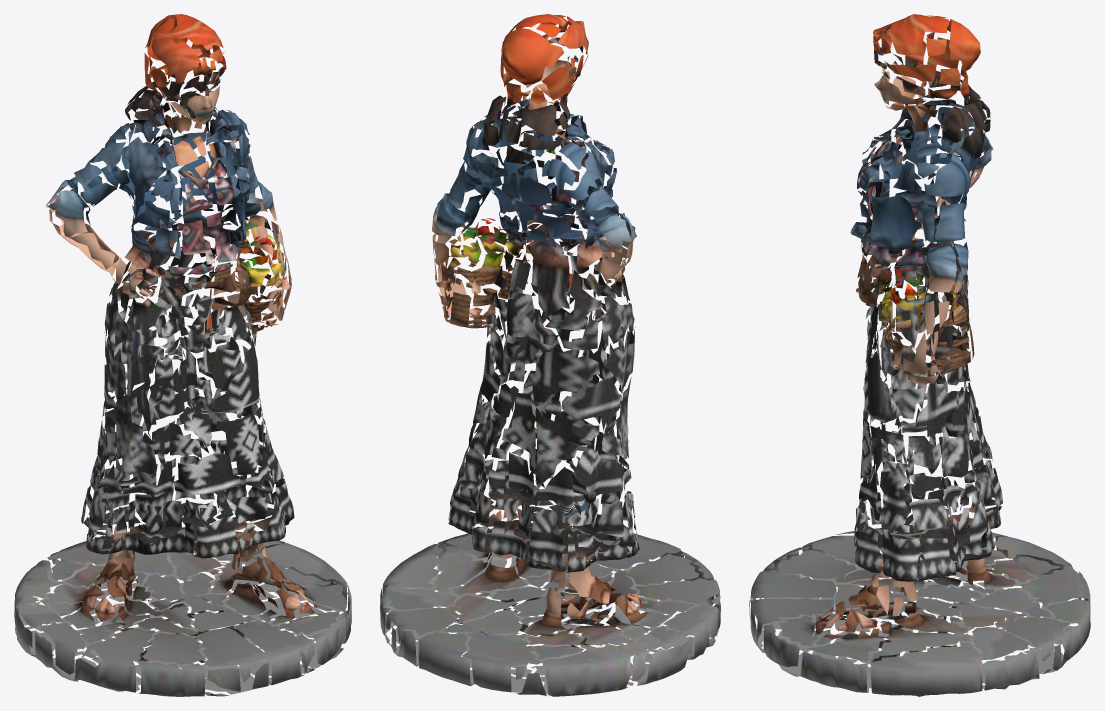
File: traders_spirit_opt.glb
3 renders of one model, left to right at view 1: azimuth 30°, elevation 25°; view 2: azimuth 150°, elevation 25°; view 3: azimuth 270°, elevation 25°, orthographic.
Visible parts, largest first — view 1: traders_spirit_opt; view 2: traders_spirit_opt; view 3: traders_spirit_opt.
Boxes of the visible parts, x1=… form: traders_spirit_opt: x1=14, y1=14, x2=351, y2=696; traders_spirit_opt: x1=380, y1=14, x2=720, y2=696; traders_spirit_opt: x1=749, y1=14, x2=1090, y2=696.
Size of the model in its own units: 0.961 by 1.9 by 0.9587.
1 material, 1 textured.
